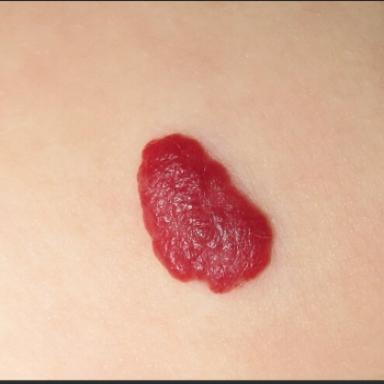Hemangiome: (137, 134, 271, 292)
